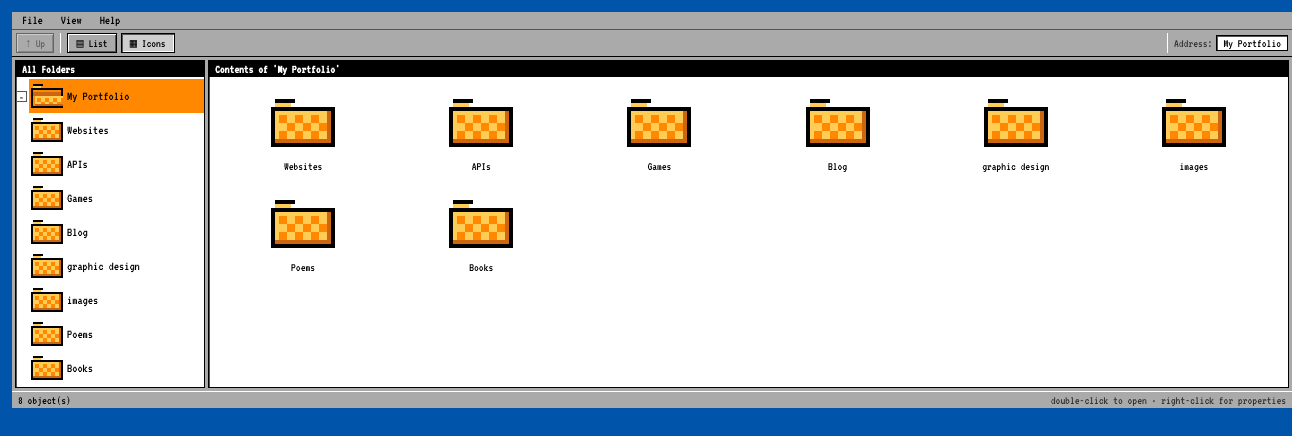
Test case: Explorer on the desktop › does the same in list view: double-click opens, right-click gives the file menu
Later steps or results of the test are not shown.
Click the button "▤ List".
click(92, 43)  # box [67, 33, 117, 53]
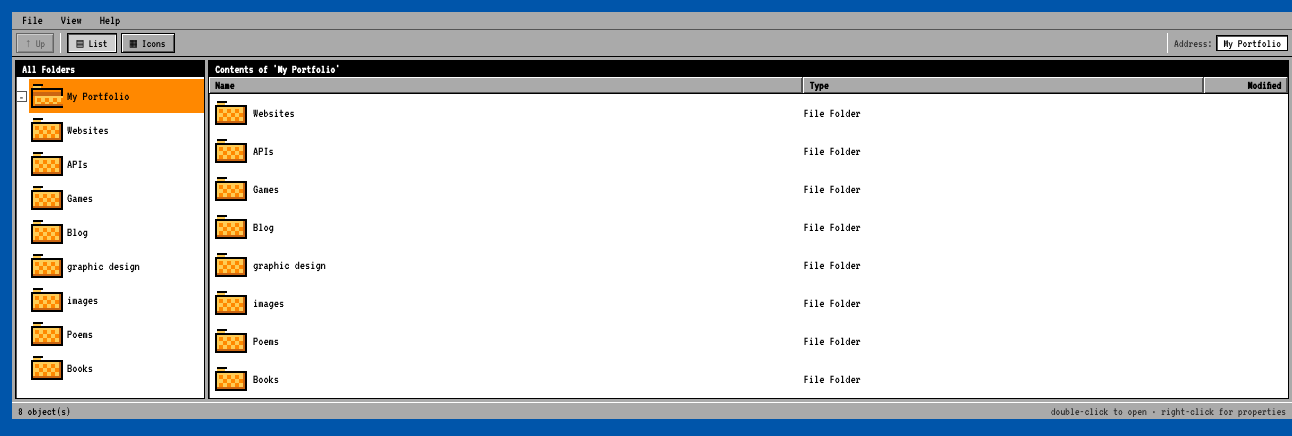
Right-click the text "Websites" below "Contents of '".
right_click(274, 113)  # box [253, 106, 295, 120]
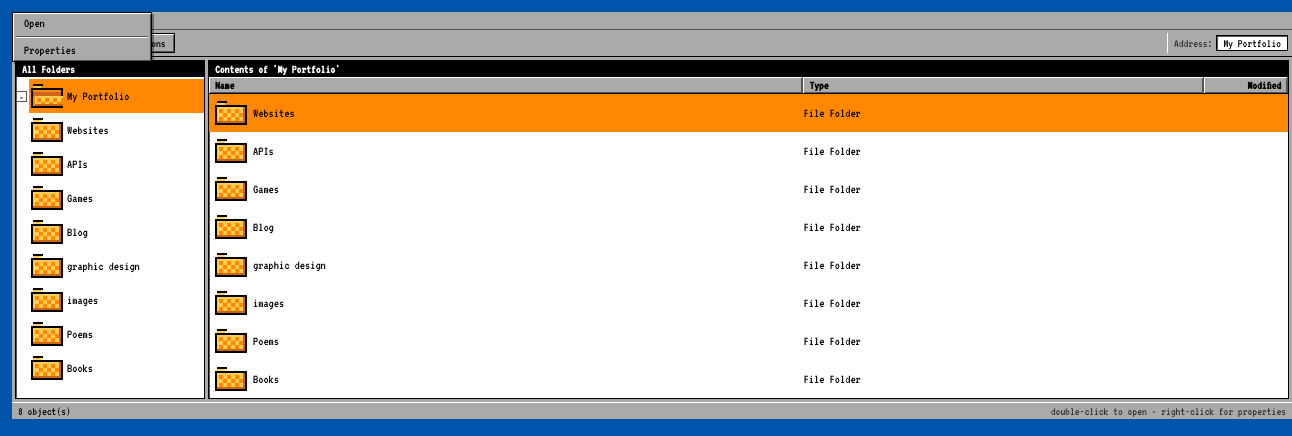
expect the menu item "Properties" is shown: met, box [14, 41, 150, 60]
